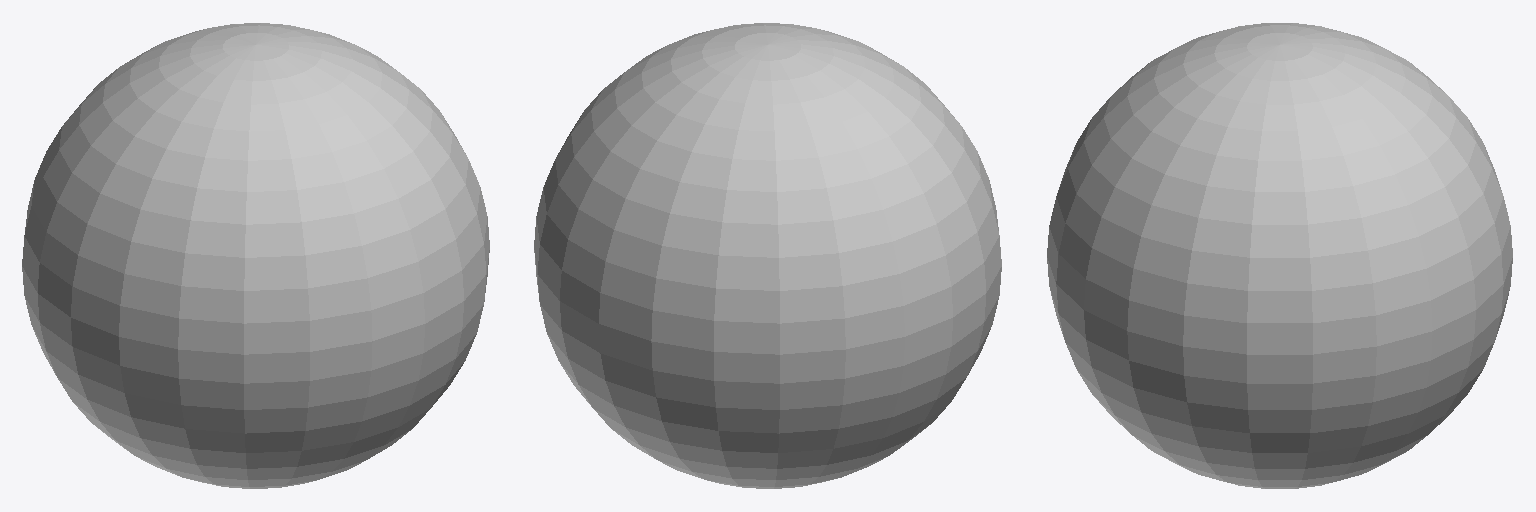
The model's file is reactor_core.obj.
3 renders of one model, left to right at view 1: azimuth 30°, elevation 25°; view 2: azimuth 150°, elevation 25°; view 3: azimuth 270°, elevation 25°, orthographic.
Parts seen in each view (by area): view 1: Plane_Plane.003; view 2: Plane_Plane.003; view 3: Plane_Plane.003.
Boxes of the visible parts, x1,y1,x2,y2 form: Plane_Plane.003: [22, 23, 489, 488]; Plane_Plane.003: [534, 23, 1001, 488]; Plane_Plane.003: [1047, 23, 1512, 488].
Bounding box in the file's own units: 1 × 1 × 1.